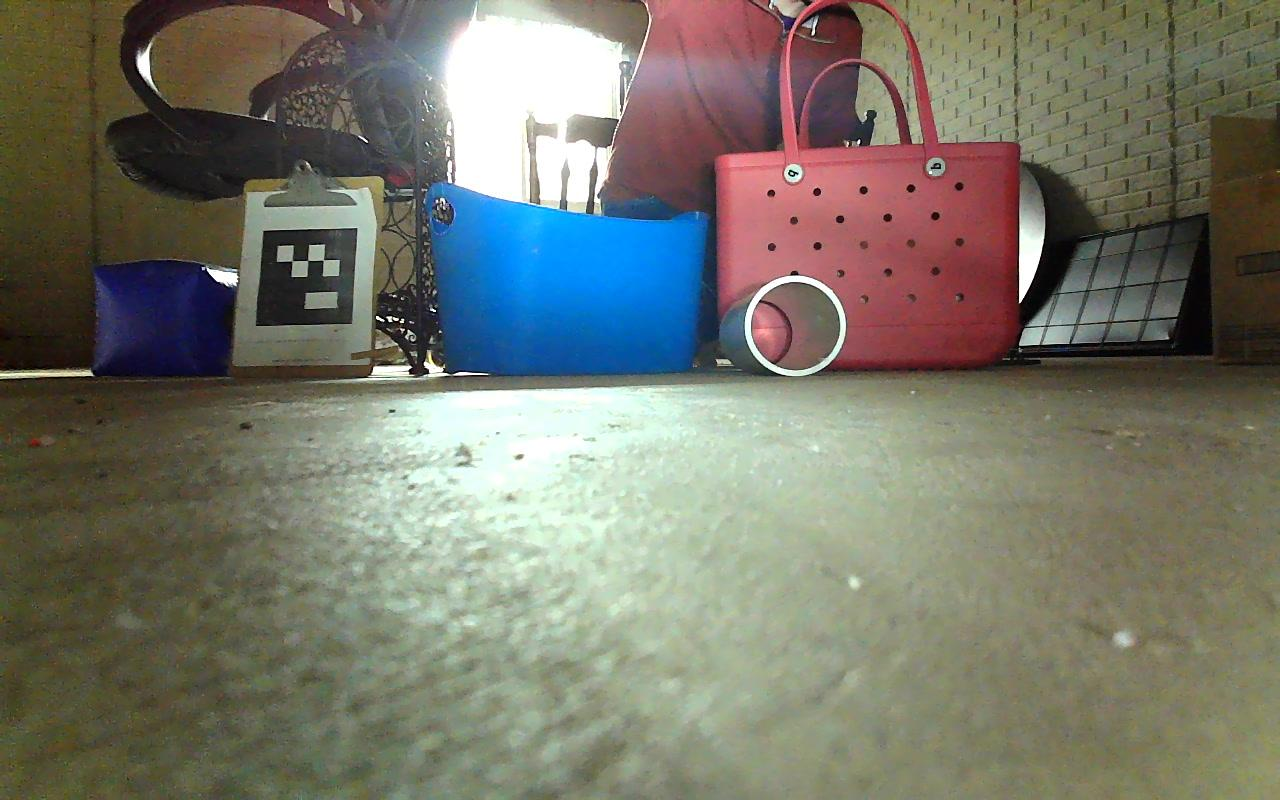coral: (720, 274, 846, 375)
